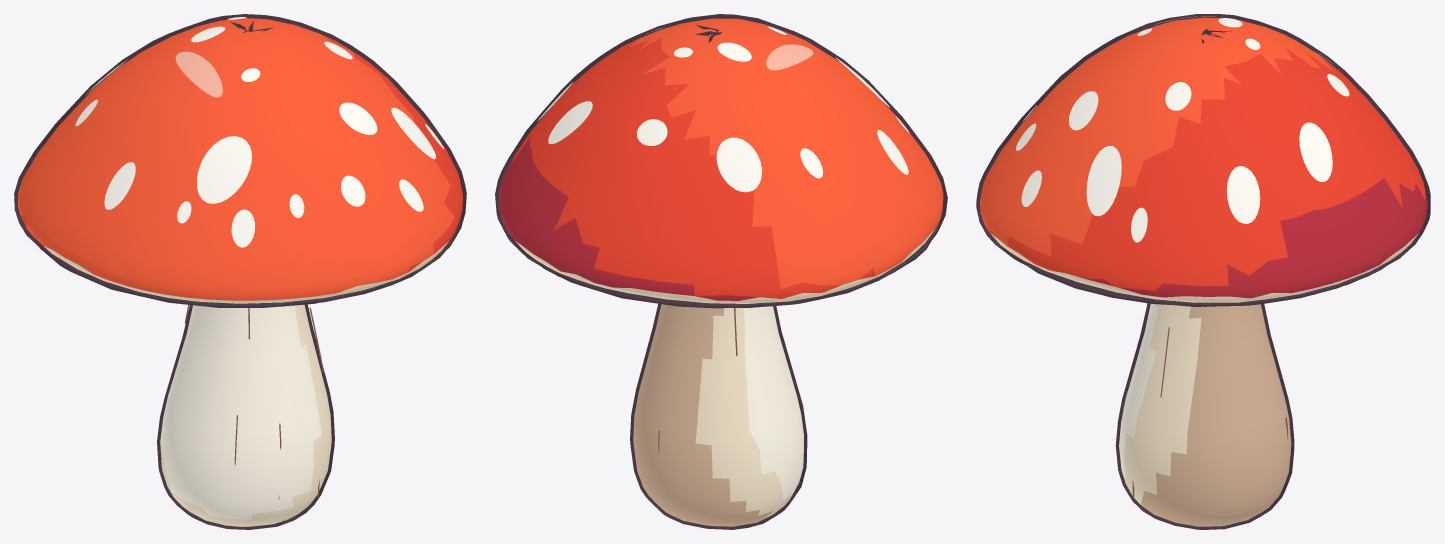
Rendered from mushroom.glb.
3 renders of one model, left to right at view 1: azimuth 30°, elevation 25°; view 2: azimuth 150°, elevation 25°; view 3: azimuth 270°, elevation 25°, orthographic.
Parts seen in each view (by area): view 1: Cap.001; view 2: Cap.001; view 3: Cap.001.
Boxes of the visible parts, bbox=[...] form: Cap.001: bbox=[14, 14, 466, 529]; Cap.001: bbox=[495, 14, 947, 529]; Cap.001: bbox=[976, 14, 1430, 529].
Bounding box in the file's own units: 2.47 × 2.89 × 2.46.
